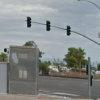Traffic light: (21, 10, 79, 41)
